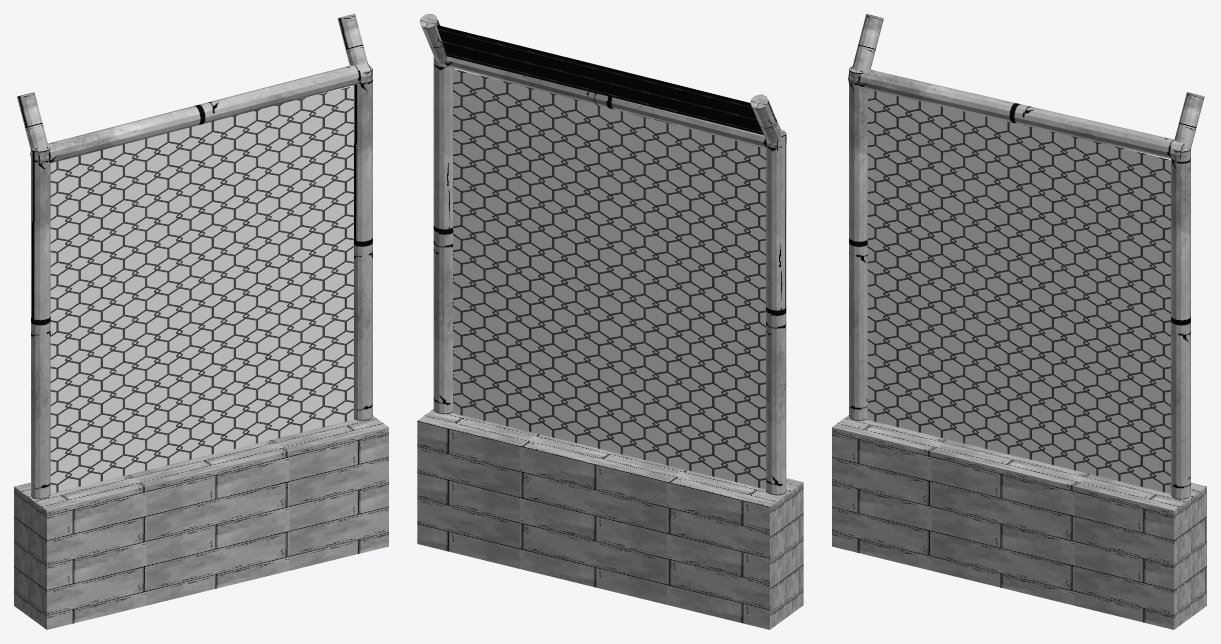
Rendered from fence.obj.
3 renders of one model, left to right at view 1: azimuth 30°, elevation 25°; view 2: azimuth 150°, elevation 25°; view 3: azimuth 330°, elevation 25°, orthographic. The views are drawn at different scales.
Parts seen in each view (by area): view 1: pPlane1, pCube1, pCylinder1, pCylinder3, pCylinder2, pCylinder4, pCylinder5; view 2: pPlane1, pCube1, pPlane2, pCylinder1, pCylinder2, pCylinder3, pCylinder4, pCylinder5; view 3: pPlane1, pCube1, pCylinder2, pCylinder3, pCylinder1, pCylinder4, pCylinder5.
Part boxes in pixels (left/top/right/bottom): pPlane1: left=50, top=86, right=354, bottom=493; pCube1: left=14, top=416, right=388, bottom=629; pCylinder1: left=31, top=147, right=50, bottom=499; pCylinder3: left=30, top=62, right=371, bottom=165; pCylinder2: left=353, top=66, right=372, bottom=420; pCylinder4: left=17, top=92, right=47, bottom=149; pCylinder5: left=337, top=14, right=367, bottom=65; pPlane1: left=452, top=69, right=765, bottom=489; pCube1: left=417, top=409, right=803, bottom=629; pPlane2: left=436, top=25, right=763, bottom=134; pCylinder1: left=766, top=129, right=786, bottom=495; pCylinder2: left=433, top=56, right=454, bottom=414; pCylinder3: left=435, top=56, right=786, bottom=150; pCylinder4: left=750, top=94, right=782, bottom=143; pCylinder5: left=419, top=14, right=447, bottom=63; pPlane1: left=867, top=89, right=1170, bottom=493; pCube1: left=832, top=415, right=1206, bottom=629; pCylinder2: left=1171, top=148, right=1190, bottom=499; pCylinder3: left=848, top=67, right=1185, bottom=158; pCylinder1: left=849, top=66, right=867, bottom=420; pCylinder4: left=852, top=14, right=883, bottom=71; pCylinder5: left=1174, top=92, right=1204, bottom=149.
Size of the model in its own units: 3 by 4.3 by 0.5434.
3 materials, 3 textured.
